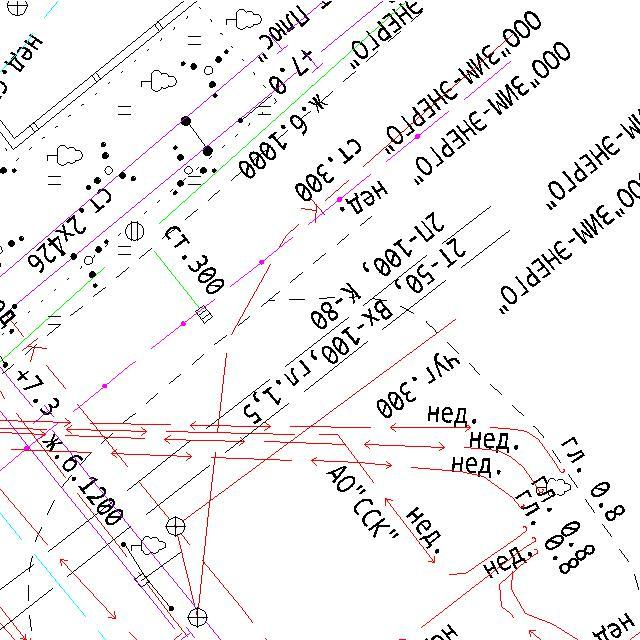bushes: (85, 140, 137, 192), (180, 48, 230, 100), (170, 144, 218, 196), (60, 240, 110, 288)
tree: (139, 68, 179, 92), (44, 143, 84, 167), (225, 8, 263, 32), (535, 476, 573, 498), (130, 534, 168, 556)
well: (164, 514, 188, 538), (186, 606, 210, 630), (122, 220, 146, 242)
